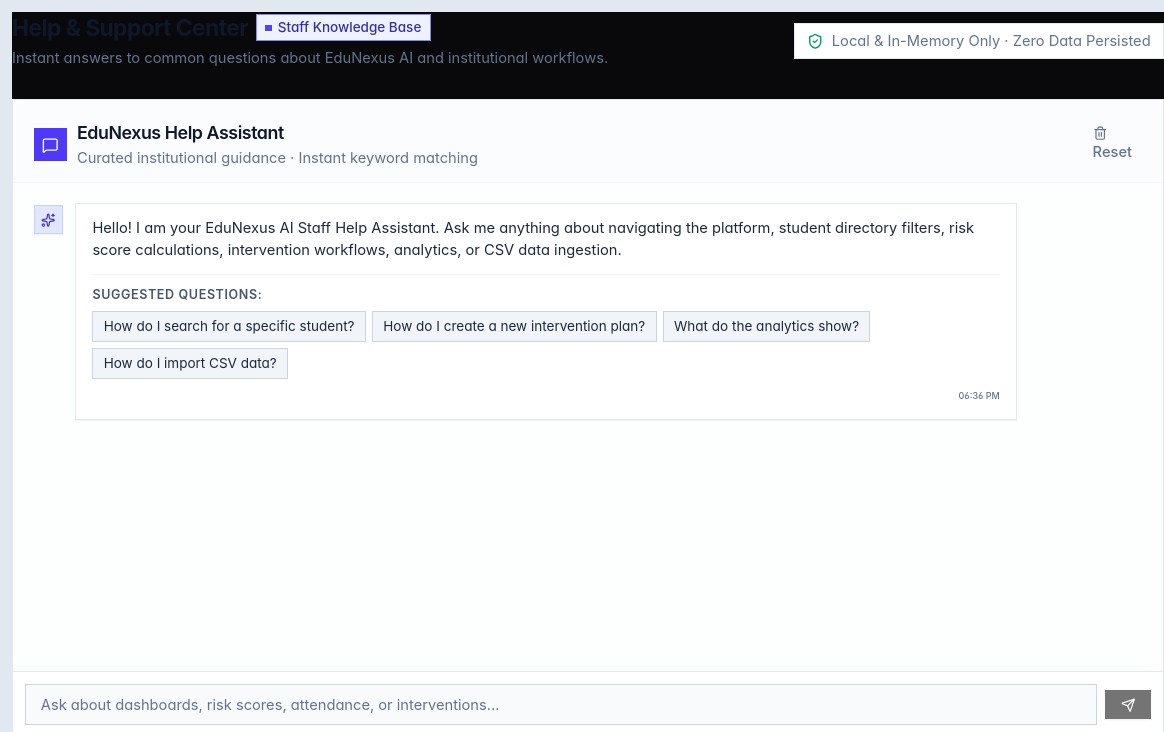
Test: HelpPage Component › clears chat when Reset button is clicked
Replace the text in the field named "Ask a question about EduNexus AI" with "Can I change theme colors?" at point(561, 705), box [25,684,1097,725]
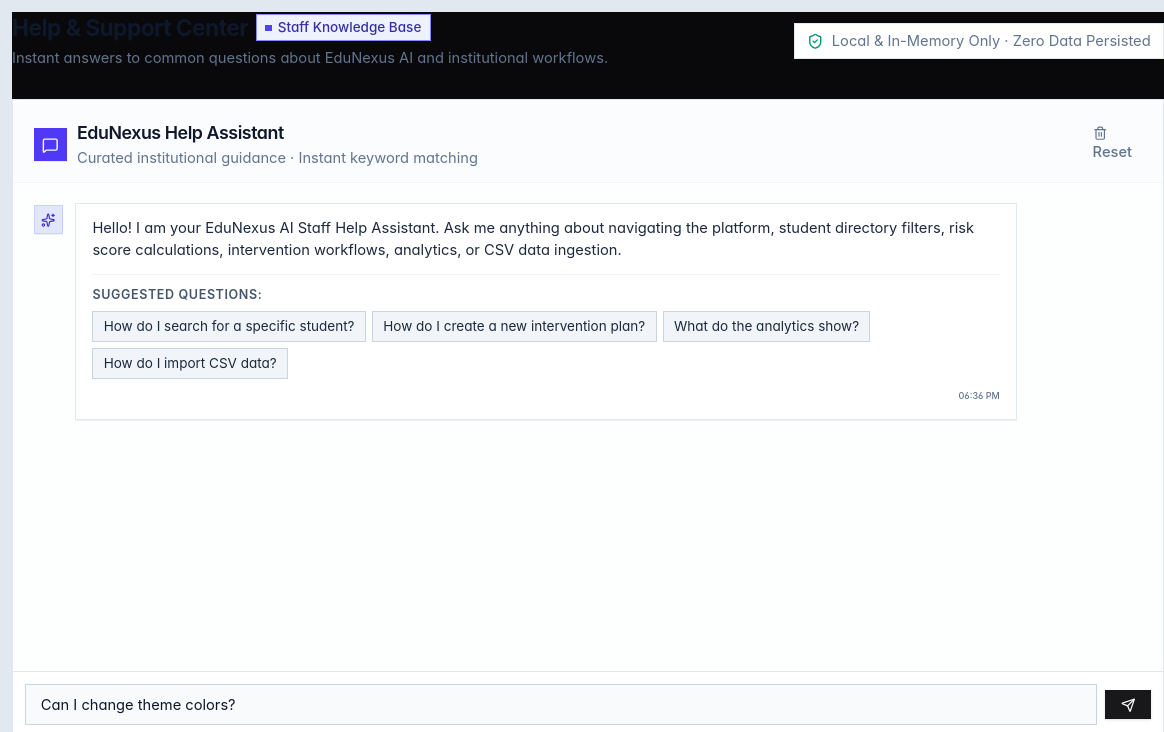
Submit the form named "Ask a question about EduNexus AI", box [25,684,1151,725]
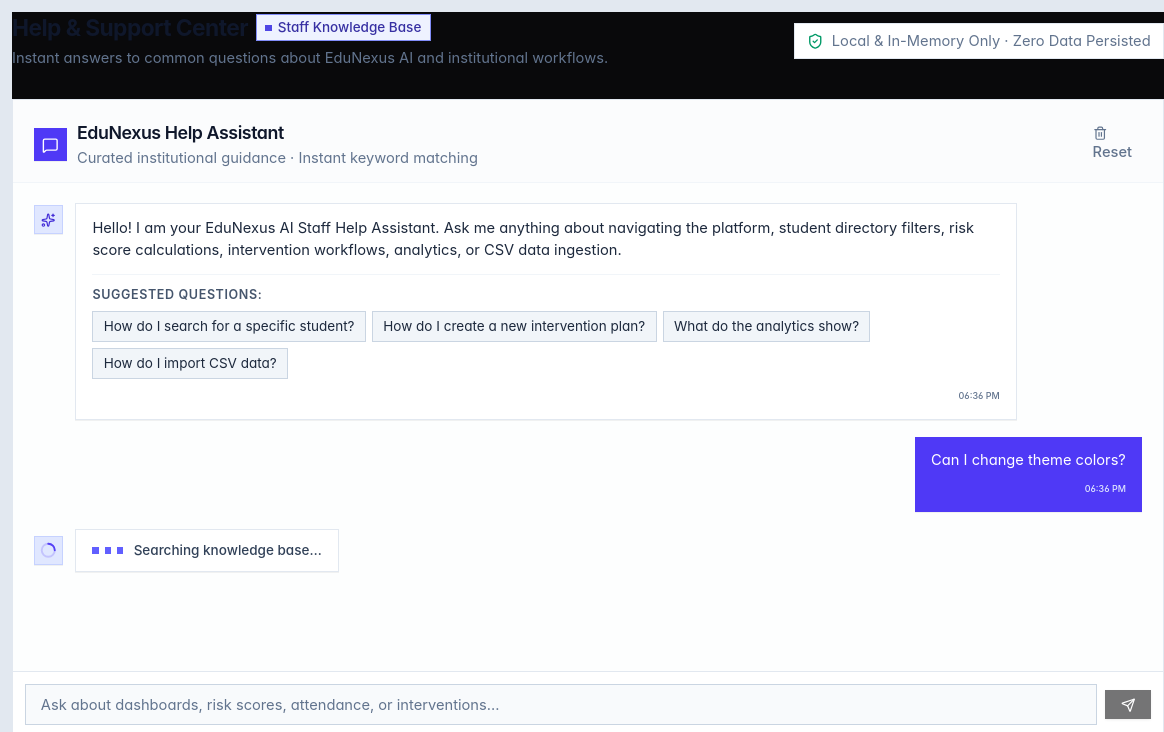
Result: the text "Can I change theme colors?" is shown at [931,449,1126,472]
Click the button "Reset" at point(1112, 145), box [1082,120,1142,169]
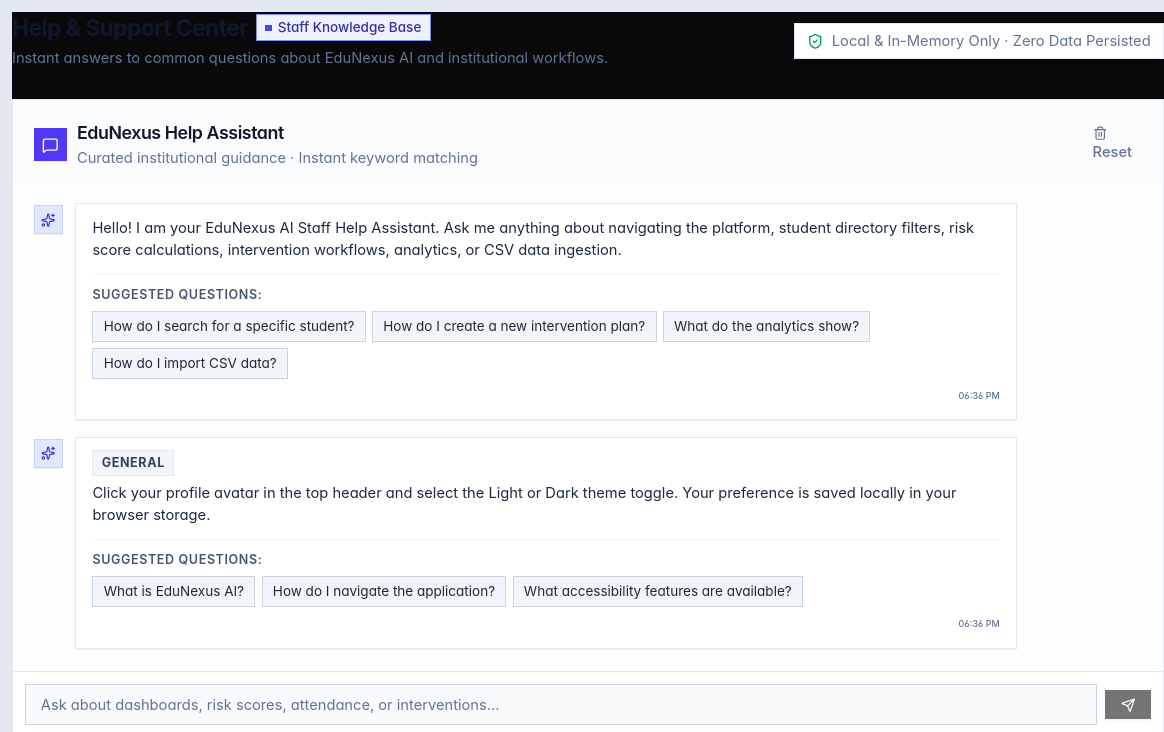
Expected: the text "EduNexus AI Staff Help Assistant" is shown, [92,219,974,259]
Result: the text "Can I change theme colors?" is gone
